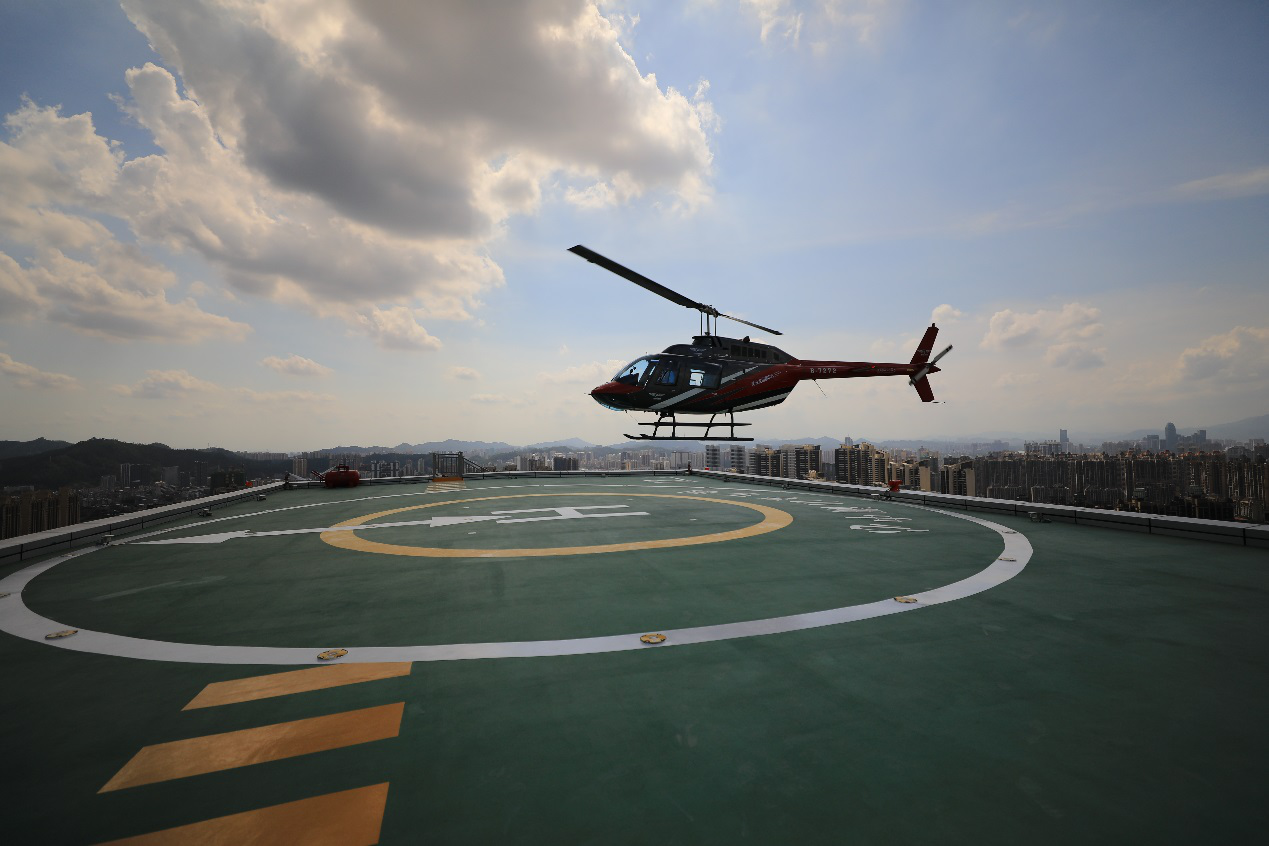Apron: (319, 492, 793, 558)
